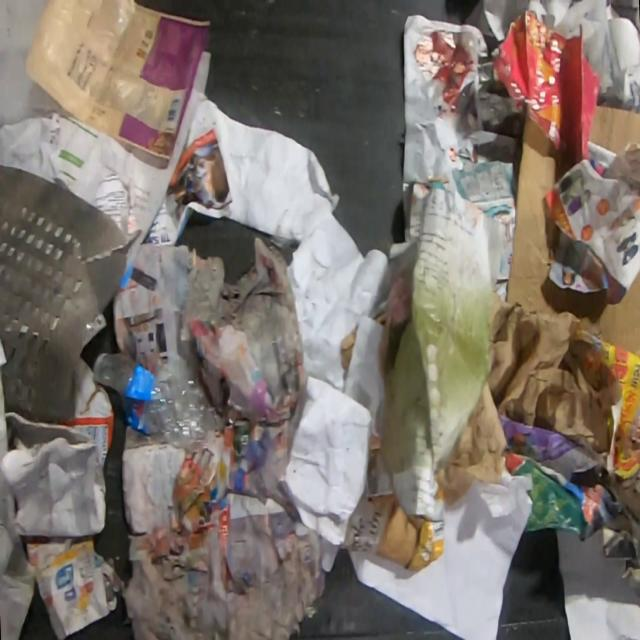cardboard: (504, 115, 640, 356), (337, 492, 446, 572), (58, 356, 116, 474), (587, 105, 640, 153)
rigid_plastic: (0, 162, 140, 423), (90, 351, 155, 435)
soft_plastic: (24, 0, 211, 162), (148, 357, 228, 454)
